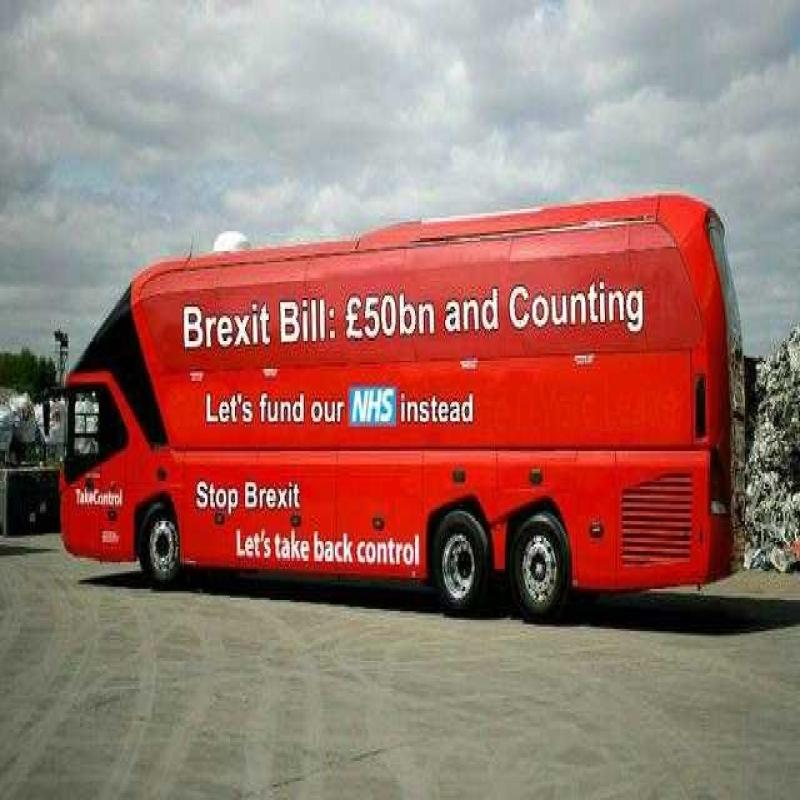bus: (49, 178, 778, 675)
